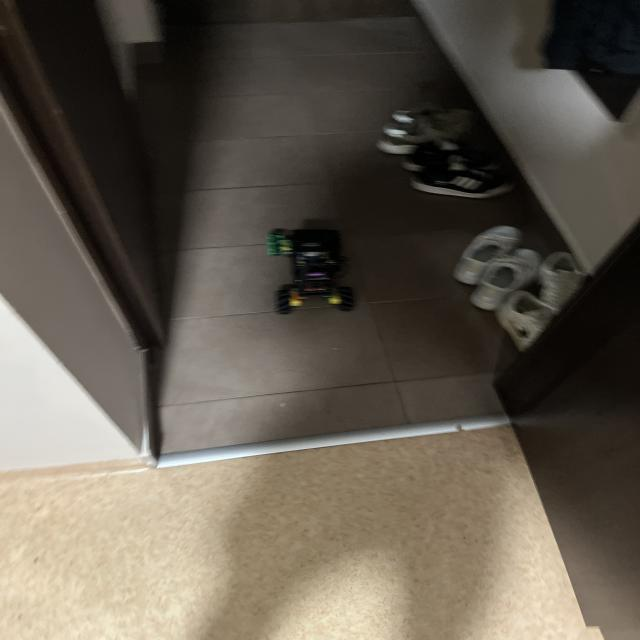robot: (268, 230, 355, 314)
